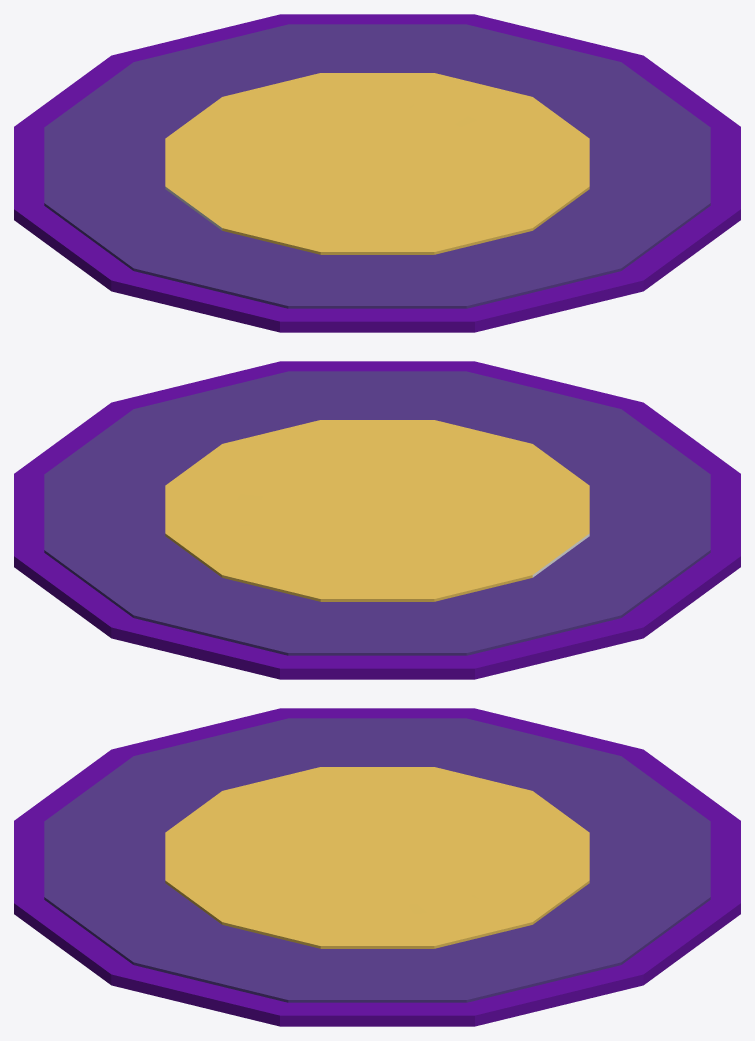
The model's file is tapete.gltf.
3 views of the same model, one above another, from view 1: azimuth 30°, elevation 25°; view 2: azimuth 150°, elevation 25°; view 3: azimuth 270°, elevation 25° (orthographic).
Parts seen in each view (by area): view 1: meio, sup, inf; view 2: meio, sup, inf; view 3: meio, sup, inf.
Boxes of the visible parts, x1=… form: meio: x1=44, y1=24, x2=710, y2=308; sup: x1=165, y1=73, x2=589, y2=254; inf: x1=14, y1=14, x2=740, y2=332; meio: x1=44, y1=371, x2=710, y2=655; sup: x1=165, y1=420, x2=589, y2=601; inf: x1=14, y1=361, x2=740, y2=679; meio: x1=44, y1=718, x2=710, y2=1002; sup: x1=165, y1=767, x2=589, y2=948; inf: x1=14, y1=708, x2=740, y2=1026.
Size of the model in its own units: 1.5 by 0.0375 by 1.5.
4 materials, 3 textured.
